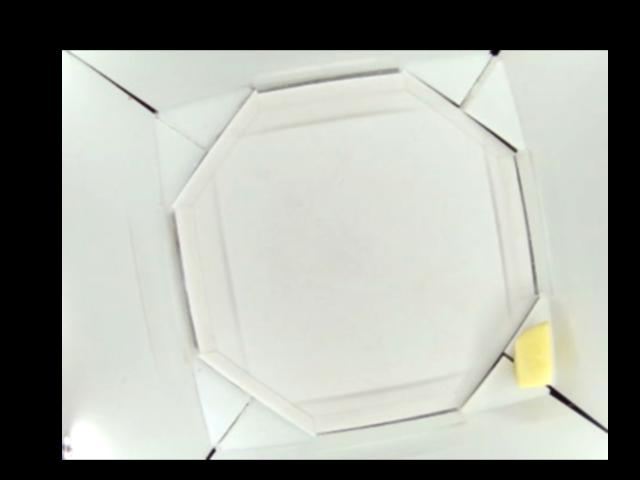Potato: (510, 319, 552, 388)
